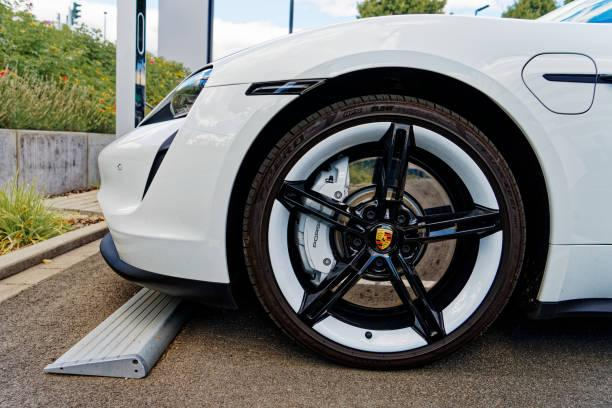porsche: (371, 220, 402, 255)
